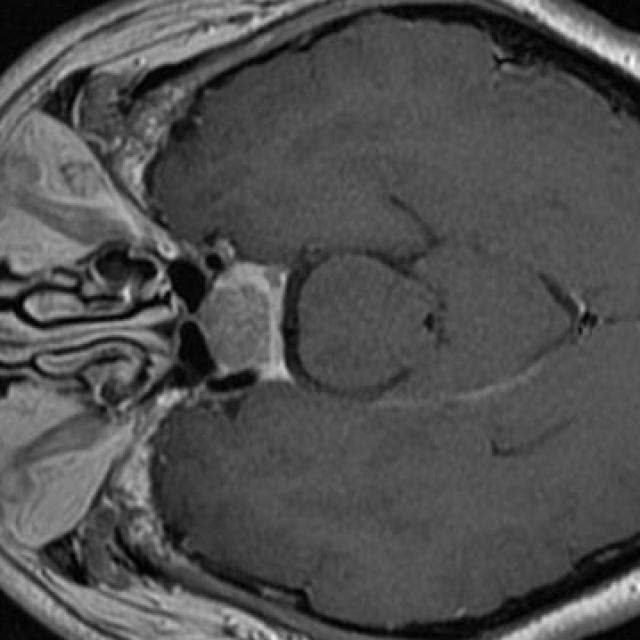pituitary: (196, 266, 283, 376)
